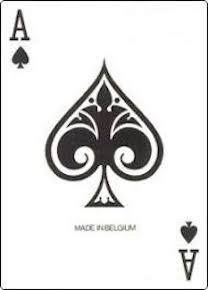AceOfSpades: (1, 1, 207, 290)
